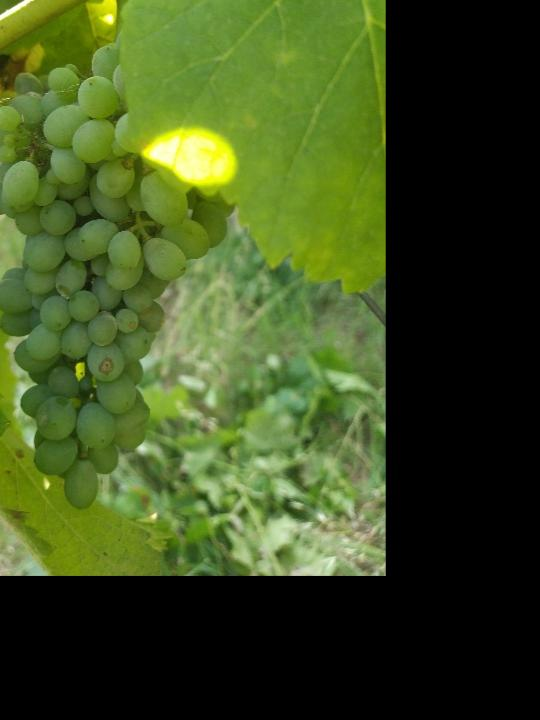grape: (0, 29, 235, 517)
